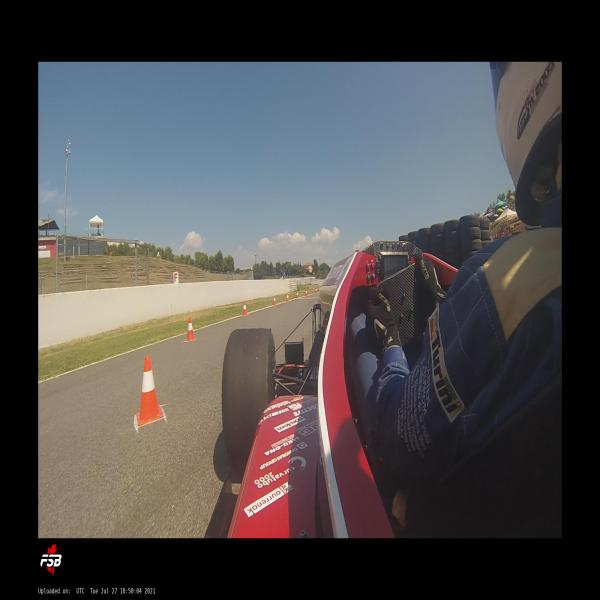orange_cone: (136, 355, 164, 426), (186, 316, 196, 342), (242, 301, 248, 316), (272, 295, 276, 307), (296, 291, 299, 299), (306, 289, 308, 297), (286, 294, 288, 302), (315, 288, 317, 294)
